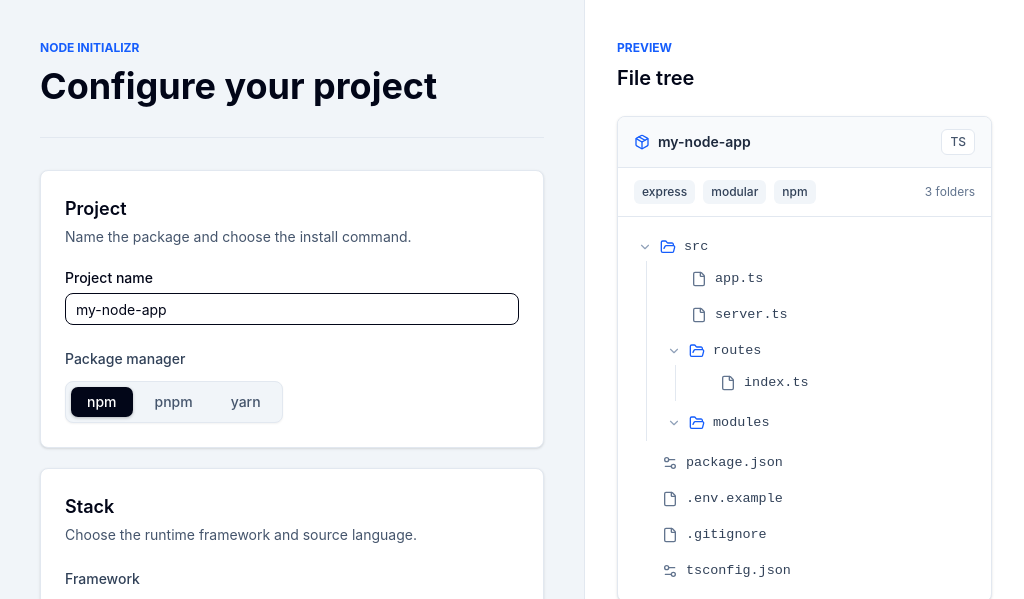
Test: App › mostra erro visual quando o nome e invalido
Step 1. Replace the text in the field labelled "Project name" with "Projeto Invalido" → {"x": 292, "y": 309}, box [65,293,519,325]
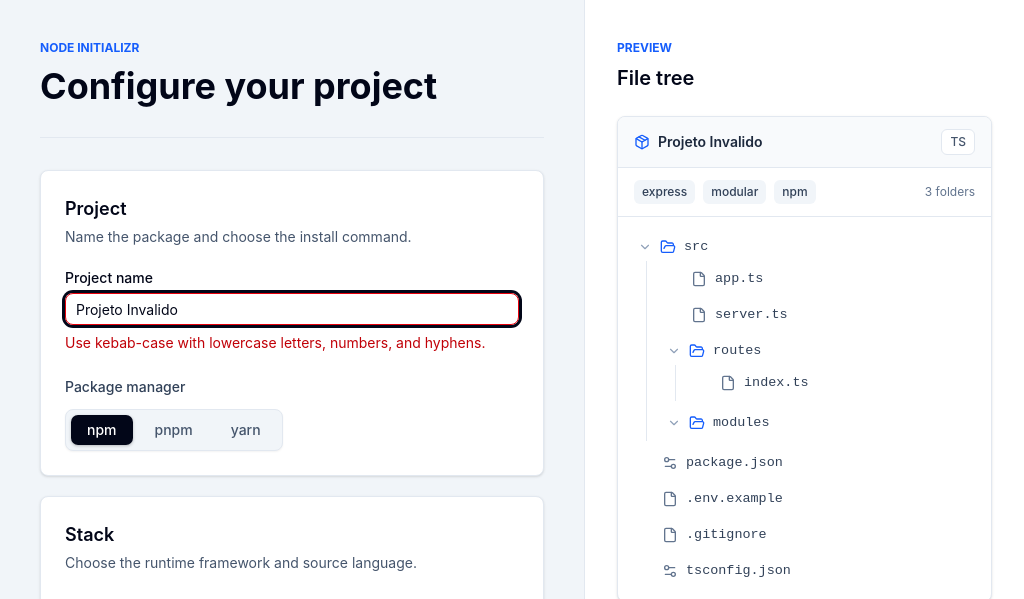
Now the text "Use kebab-case with lowercase letters, numbers, and hyphens." is shown, box [65,333,519,353]
